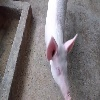heo: (42, 17, 78, 100)
